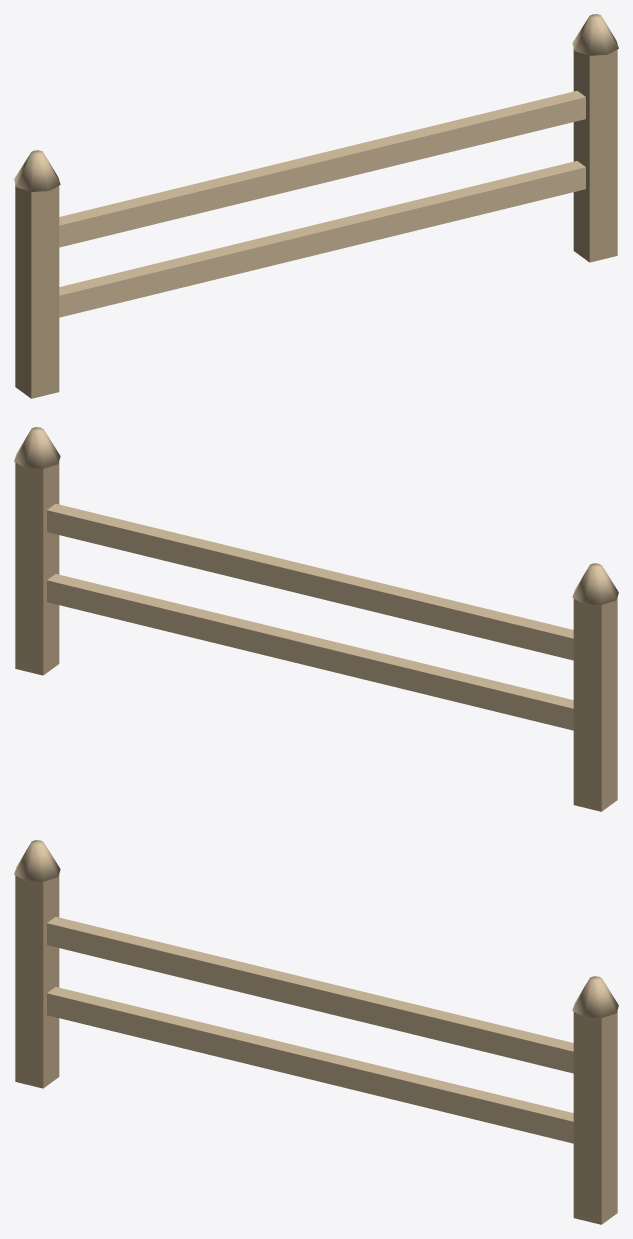
The model's file is fence.fbx.
The picture shows the model from 3 angles, top to bottom: view 1: azimuth 30°, elevation 25°; view 2: azimuth 150°, elevation 25°; view 3: azimuth 330°, elevation 25°; orthographic projection.
Visible parts, largest first — view 1: EN_fence; view 2: EN_fence; view 3: EN_fence.
Part boxes in pixels (box(x1,y1,x2,y2)): EN_fence: box(14, 14, 618, 398); EN_fence: box(14, 427, 618, 811); EN_fence: box(14, 840, 618, 1224).
Bounding box in the file's own units: 215 × 81 × 15.
